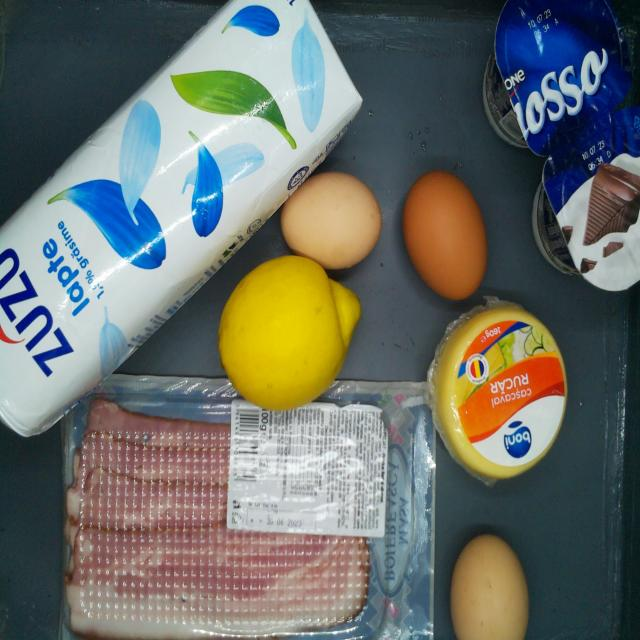bacon: (66, 380, 427, 634)
cheese: (431, 306, 567, 482)
eggs: (402, 172, 487, 302), (283, 175, 382, 271), (448, 538, 529, 640)
lemon: (223, 256, 359, 408)
milk: (4, 0, 362, 437)
yogurt: (485, 1, 623, 146), (530, 151, 640, 297)
